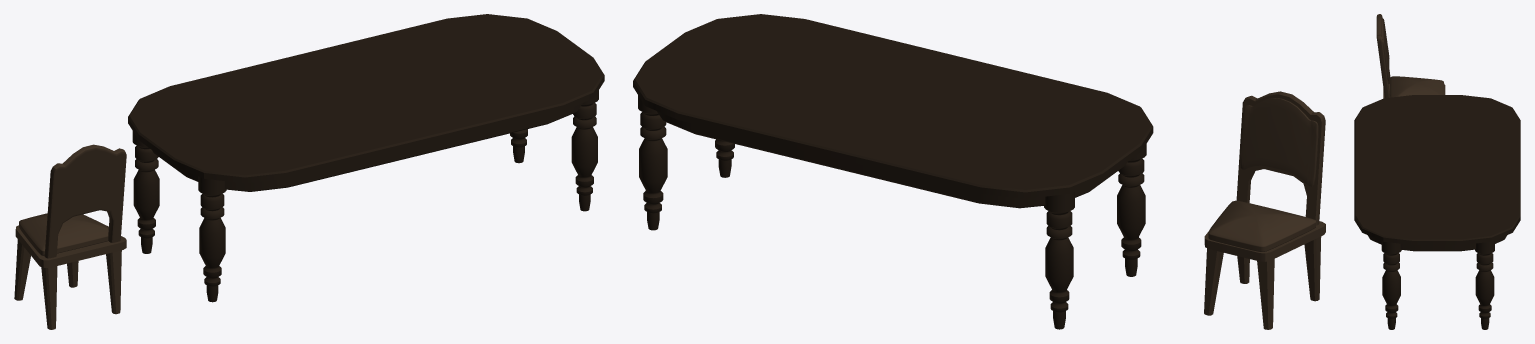
The model's file is DiningRoom_TableAndChairs.fbx.
The picture shows the model from 3 angles, left to right: view 1: azimuth 30°, elevation 25°; view 2: azimuth 150°, elevation 25°; view 3: azimuth 270°, elevation 25°; orthographic projection. The views are drawn at different scales.
Parts seen in each view (by area): view 1: pCube1, polySurface1, pCube2, Desk_Leg6, Desk_Leg5, Desk_Leg7, pCube10, pCube3, pCube6, pCube7, pCube9, Desk_Leg4; view 2: pCube1, pCube11, pCube2, pCube10, Desk_Leg5, Desk_Leg4, Desk_Leg6, polySurface1, pCube3, pCube9, pCube8, pCube6 (+1 smaller); view 3: pCube1, Desk_Leg4, Desk_Leg7, pCube10, pCube2, polySurface1, pCube11.
Part boxes in pixels (<box>): pCube1: <box>128,14,604,183</box>; polySurface1: <box>44,144,126,258</box>; pCube2: <box>152,103,582,191</box>; Desk_Leg6: <box>198,176,226,302</box>; Desk_Leg5: <box>132,131,159,253</box>; Desk_Leg7: <box>571,90,598,211</box>; pCube10: <box>19,213,108,255</box>; pCube3: <box>15,225,126,267</box>; pCube6: <box>41,266,57,329</box>; pCube7: <box>106,250,121,314</box>; pCube9: <box>14,239,30,300</box>; Desk_Leg4: <box>510,129,527,163</box>; pCube1: <box>633,14,1153,198</box>; pCube11: <box>1240,98,1318,186</box>; pCube2: <box>657,111,1126,208</box>; pCube10: <box>1208,200,1315,251</box>; Desk_Leg5: <box>1044,192,1074,329</box>; Desk_Leg4: <box>638,95,667,230</box>; Desk_Leg6: <box>1117,144,1146,276</box>; polySurface1: <box>1236,91,1325,225</box>; pCube3: <box>1204,221,1325,261</box>; pCube9: <box>1257,259,1274,329</box>; pCube8: <box>1204,248,1223,315</box>; pCube6: <box>1304,236,1321,301</box>; pCube1: <box>1354,95,1520,244</box>; Desk_Leg4: <box>1475,240,1494,329</box>; Desk_Leg7: <box>1381,241,1401,329</box>; pCube10: <box>1390,76,1444,97</box>; pCube2: <box>1367,235,1507,251</box>; polySurface1: <box>1376,14,1390,98</box>; pCube11: <box>1382,18,1389,80</box>.
Size of the model in its own units: 22 by 7.09 by 7.83.
